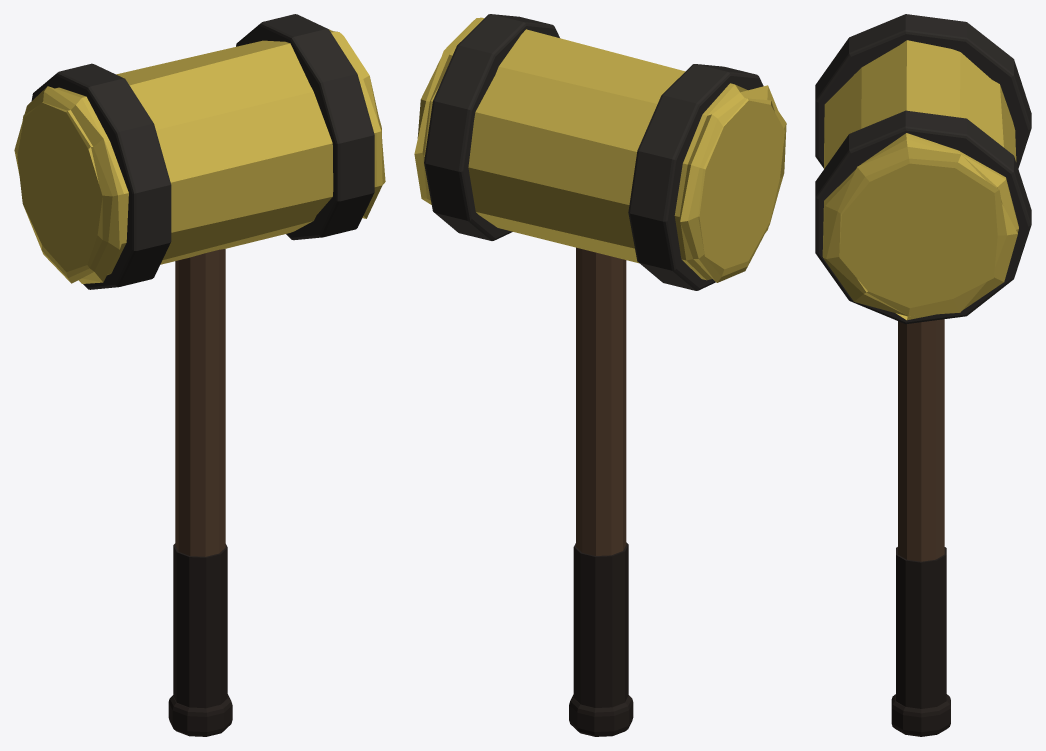
Rendered from hammer_iwadaru.fbx.
3 views of the same model, side by side, from view 1: azimuth 30°, elevation 25°; view 2: azimuth 150°, elevation 25°; view 3: azimuth 270°, elevation 25° (orthographic). The views are drawn at different scales.
Parts seen in each view (by area): view 1: iwadaru_hammer; view 2: iwadaru_hammer; view 3: iwadaru_hammer.
Boxes of the visible parts, x1,y1,x2,y2 form: iwadaru_hammer: (14, 14, 385, 736); iwadaru_hammer: (414, 14, 786, 736); iwadaru_hammer: (815, 14, 1031, 736).
Size of the model in its own units: 1.16 by 2.66 by 0.7938.
